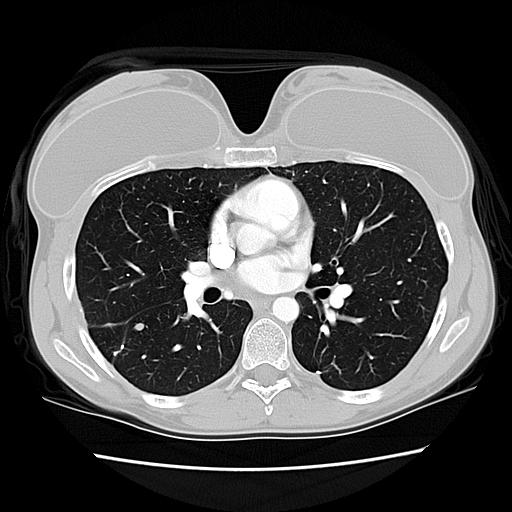nodule: (132, 320, 146, 334)
